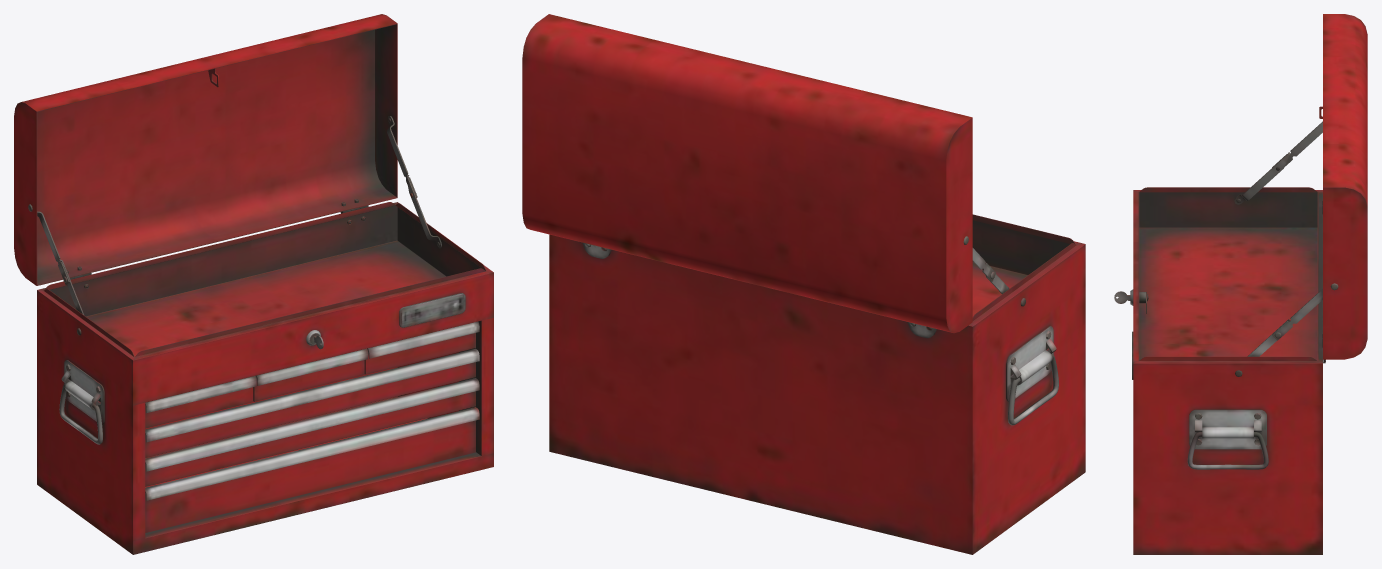
File: metal_tool_chest.gltf
3 renders of one model, left to right at view 1: azimuth 30°, elevation 25°; view 2: azimuth 150°, elevation 25°; view 3: azimuth 270°, elevation 25°, orthographic. The views are drawn at different scales.
Parts seen in each view (by area): view 1: metal_tool_chest_chest, metal_tool_chest_lid, metal_tool_chest_hinge_lid, metal_tool_chest_hinge_chest, metal_tool_chest_handle_left; view 2: metal_tool_chest_chest, metal_tool_chest_lid, metal_tool_chest_handle_left; view 3: metal_tool_chest_chest, metal_tool_chest_lid, metal_tool_chest_hinge_lid, metal_tool_chest_hinge_chest, metal_tool_chest_handle_right, metal_tool_chest_lock.
Part boxes in pixels (x1,y1,x2,y2): metal_tool_chest_chest: [37, 202, 493, 554]; metal_tool_chest_lid: [14, 14, 397, 285]; metal_tool_chest_hinge_lid: [28, 116, 417, 285]; metal_tool_chest_hinge_chest: [59, 175, 441, 335]; metal_tool_chest_handle_left: [59, 383, 102, 444]; metal_tool_chest_chest: [549, 214, 1085, 554]; metal_tool_chest_lid: [522, 14, 972, 333]; metal_tool_chest_handle_left: [1008, 354, 1058, 425]; metal_tool_chest_chest: [1132, 187, 1325, 554]; metal_tool_chest_lid: [1319, 14, 1367, 359]; metal_tool_chest_hinge_lid: [1272, 121, 1338, 340]; metal_tool_chest_hinge_chest: [1234, 152, 1290, 376]; metal_tool_chest_handle_right: [1187, 432, 1268, 469]; metal_tool_chest_lock: [1114, 289, 1148, 313].
Size of the model in its own units: 0.6854 by 0.6518 by 0.4072.
Materials: 1 (1 with a texture image).
